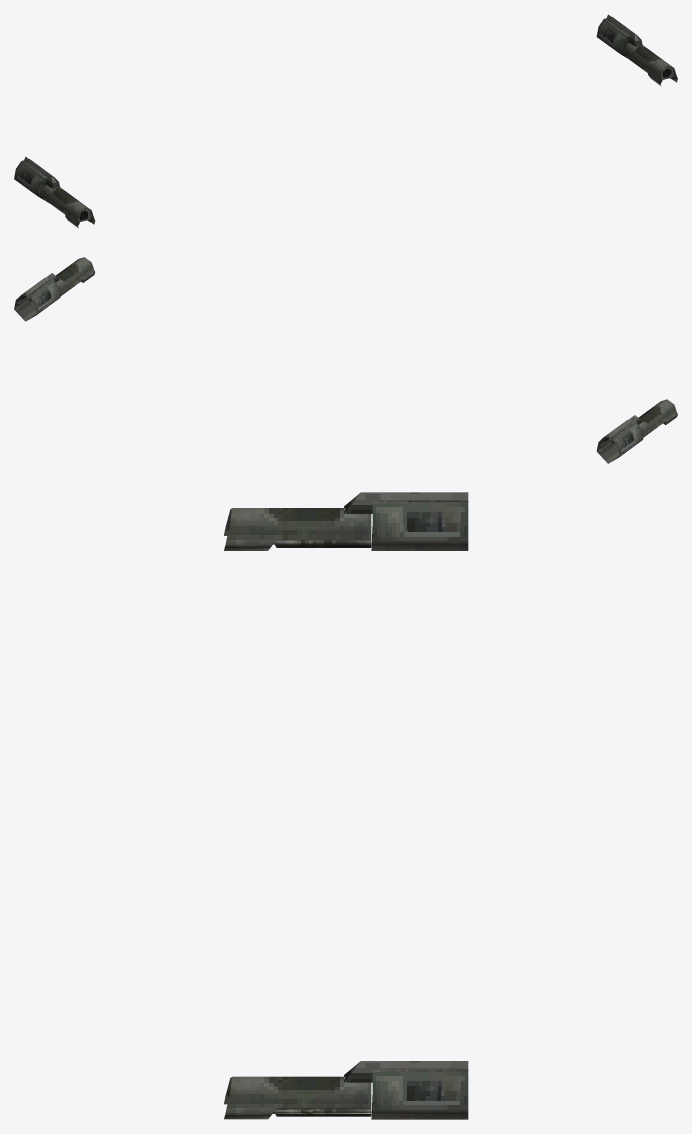
The model's file is black_sun_fighter_light_weapon_s01_l2.fbx.
3 renders of one model, top to bottom at view 1: azimuth 30°, elevation 25°; view 2: azimuth 150°, elevation 25°; view 3: azimuth 270°, elevation 25°, orthographic. The views are drawn at different scales.
Visible parts, largest first — view 1: mesh_node; view 2: mesh_node; view 3: mesh_node.
Boxes of the visible parts, x1=… form: mesh_node: x1=14, y1=14, x2=677, y2=228; mesh_node: x1=14, y1=257, x2=677, y2=463; mesh_node: x1=224, y1=492, x2=468, y2=1119.
Size of the model in its own units: 11.68 by 0.5416 by 2.04.
Materials: 1 (1 with a texture image).
